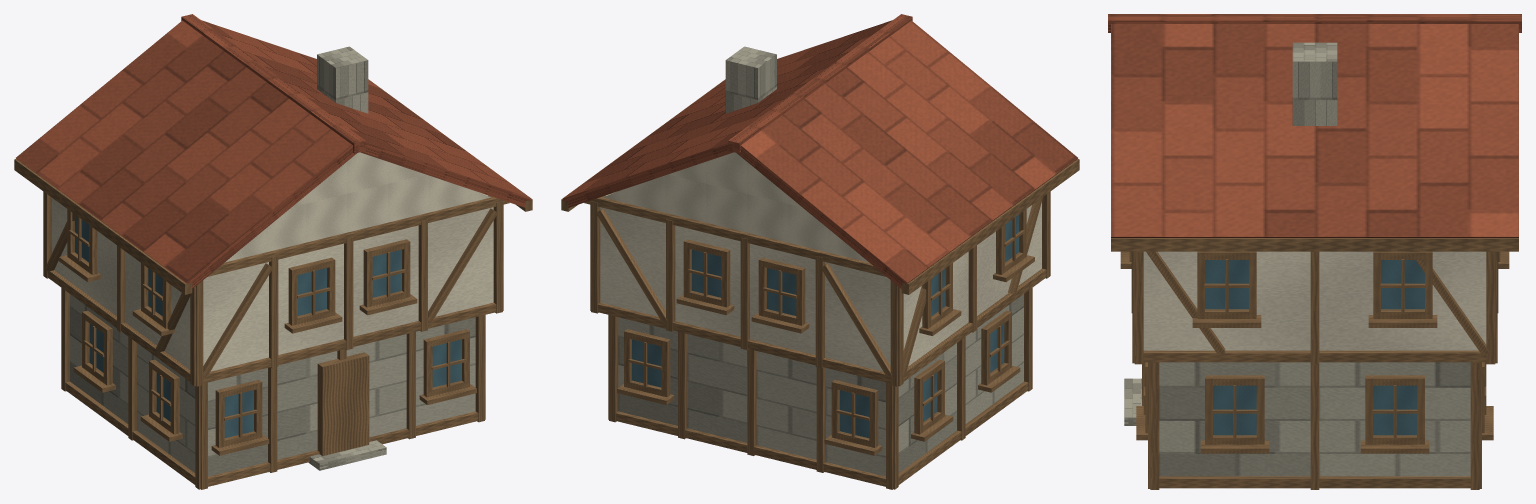
3 views of the same model, side by side, from view 1: azimuth 30°, elevation 25°; view 2: azimuth 150°, elevation 25°; view 3: azimuth 270°, elevation 25° (orthographic). The views are drawn at different scales.
Visible parts, largest first — view 1: house-roof, house-wood, house-plaster, house-stone, house-glass; view 2: house-roof, house-wood, house-plaster, house-stone, house-glass; view 3: house-roof, house-wood, house-stone, house-plaster, house-glass.
Part boxes in pixels (bbox=[...]): house-roof: bbox=[16, 14, 530, 288]; house-wood: bbox=[14, 80, 532, 489]; house-plaster: bbox=[52, 152, 493, 371]; house-stone: bbox=[70, 46, 475, 476]; house-glass: bbox=[75, 216, 461, 438]; house-roof: bbox=[563, 14, 1077, 289]; house-wood: bbox=[561, 80, 1079, 489]; house-plaster: bbox=[600, 152, 1041, 371]; house-stone: bbox=[618, 46, 1023, 476]; house-glass: bbox=[632, 215, 1018, 438]; house-roof: bbox=[1108, 14, 1521, 237]; house-wood: bbox=[1111, 238, 1518, 489]; house-stone: bbox=[1124, 42, 1470, 476]; house-plaster: bbox=[1143, 251, 1486, 350]; house-glass: bbox=[1205, 260, 1424, 435].
Size of the model in its own units: 8.54 by 7.74 by 7.36.
Materials: 5 (5 with a texture image).
